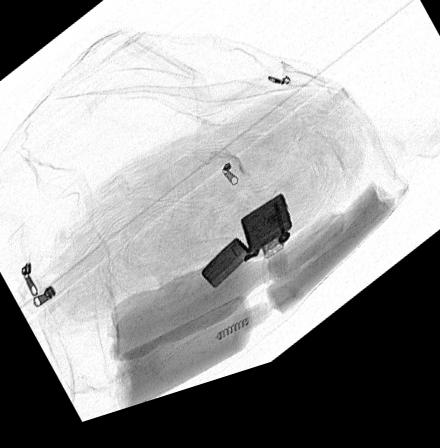Lighter: (200, 211, 291, 301)
